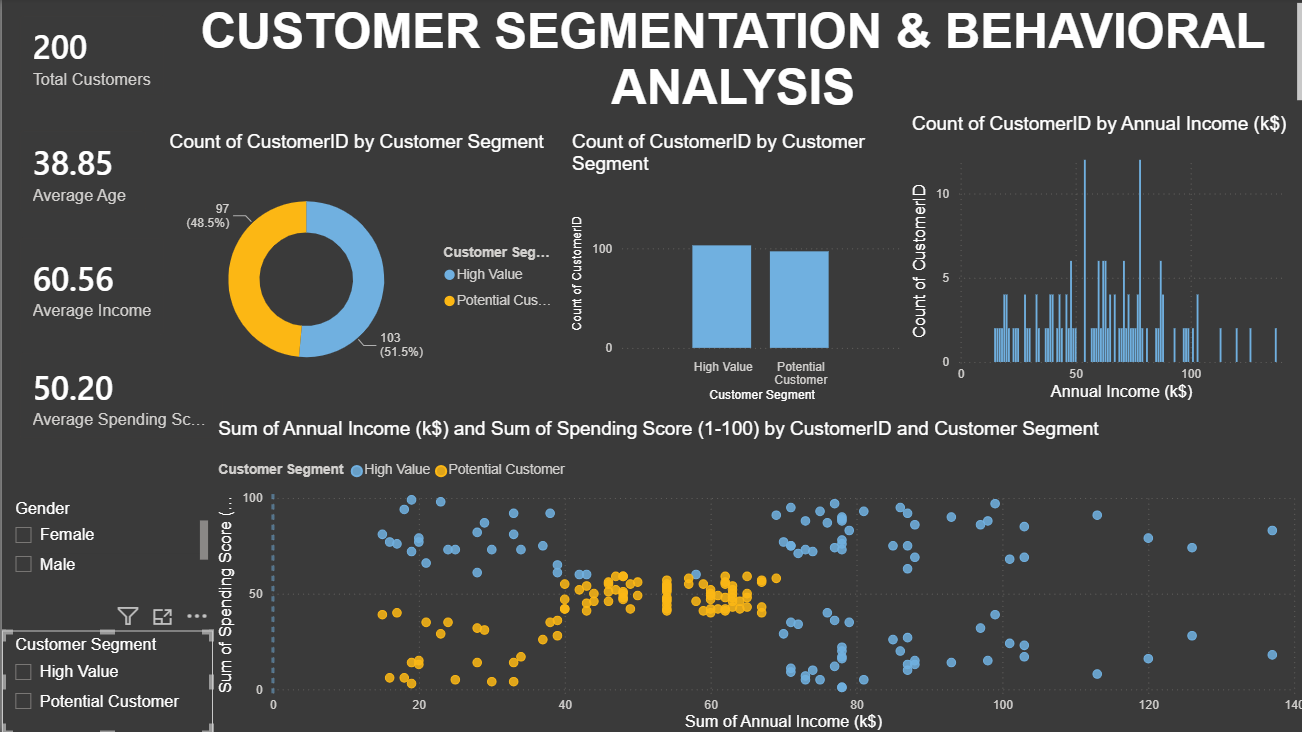

What the dashboard file says about the page in this screenshot:
{"tool":"powerbi","page":{"name":"Page 2","canvas":[1280,720],"ordinal":1},"visuals":[{"type":"cardVisual","fields":{"Data":["Customers.Total Customers"]},"box":[0,0,176.1,112.5],"z":0},{"type":"cardVisual","fields":{"Data":["Customers.Average Age"]},"box":[0,112.5,159,114.9],"z":1000},{"type":"cardVisual","fields":{"Data":["Customers.Average Income"]},"box":[0,217.7,176.1,130.8],"z":2000},{"type":"cardVisual","fields":{"Data":["Customers.Average Spending Score"]},"box":[0,330.2,233.6,118.6],"z":3000},{"type":"donutChart","fields":{"Category":["Customers.Customer Segment"],"Y":["CountNonNull(Customers.CustomerID)"]},"box":[159,129.6,393.8,259.2],"z":4000},{"type":"clusteredColumnChart","fields":{"Y":["CountNonNull(Customers.CustomerID)"],"Category":["Customers.Customer Segment"]},"box":[552.7,129.6,332.6,270.2],"z":5000},{"type":"clusteredColumnChart","fields":{"Category":["Customers.Annual Income (k$)"],"Y":["CountNonNull(Customers.CustomerID)"]},"box":[885.3,112.5,382.7,286.1],"z":6000},{"type":"scatterChart","fields":{"Category":["Customers.CustomerID"],"X":["Sum(Customers.Annual Income (k$))"],"Y":["Sum(Customers.Spending Score (1-100))"],"Series":["Customers.Customer Segment"]},"box":[206.7,410.9,1073.6,310.6],"z":7000},{"type":"slicer","fields":{"Values":["Customers.Customer Segment"]},"box":[0,618.8,206.7,101.5],"z":8000},{"type":"slicer","fields":{"Values":["Customers.Gender"]},"box":[0,485.5,206.7,80.7],"z":9000},{"type":"textbox","box":[159,0,1121.3,112.5],"z":9001}]}

Visuals, with their boxes in screenshot pixels (x1, y1, x2, y2), scaled from the page's 1280x720 canvas onto the 1302x732 screenshot:
cardVisual - Customers.Total Customers: <bbox>0, 0, 179, 114</bbox>
cardVisual - Customers.Average Age: <bbox>0, 114, 162, 231</bbox>
cardVisual - Customers.Average Income: <bbox>0, 221, 179, 354</bbox>
cardVisual - Customers.Average Spending Score: <bbox>0, 336, 238, 456</bbox>
donutChart - Customers.Customer Segment x CountNonNull(Customers.CustomerID): <bbox>162, 132, 562, 395</bbox>
clusteredColumnChart - CountNonNull(Customers.CustomerID) x Customers.Customer Segment: <bbox>562, 132, 901, 406</bbox>
clusteredColumnChart - Customers.Annual Income (k$) x CountNonNull(Customers.CustomerID): <bbox>901, 114, 1290, 405</bbox>
scatterChart - Customers.CustomerID x Sum(Customers.Annual Income (k$)): <bbox>210, 418, 1301, 731</bbox>
slicer - Customers.Customer Segment: <bbox>0, 629, 210, 731</bbox>
slicer - Customers.Gender: <bbox>0, 494, 210, 576</bbox>
textbox: <bbox>162, 0, 1301, 114</bbox>
